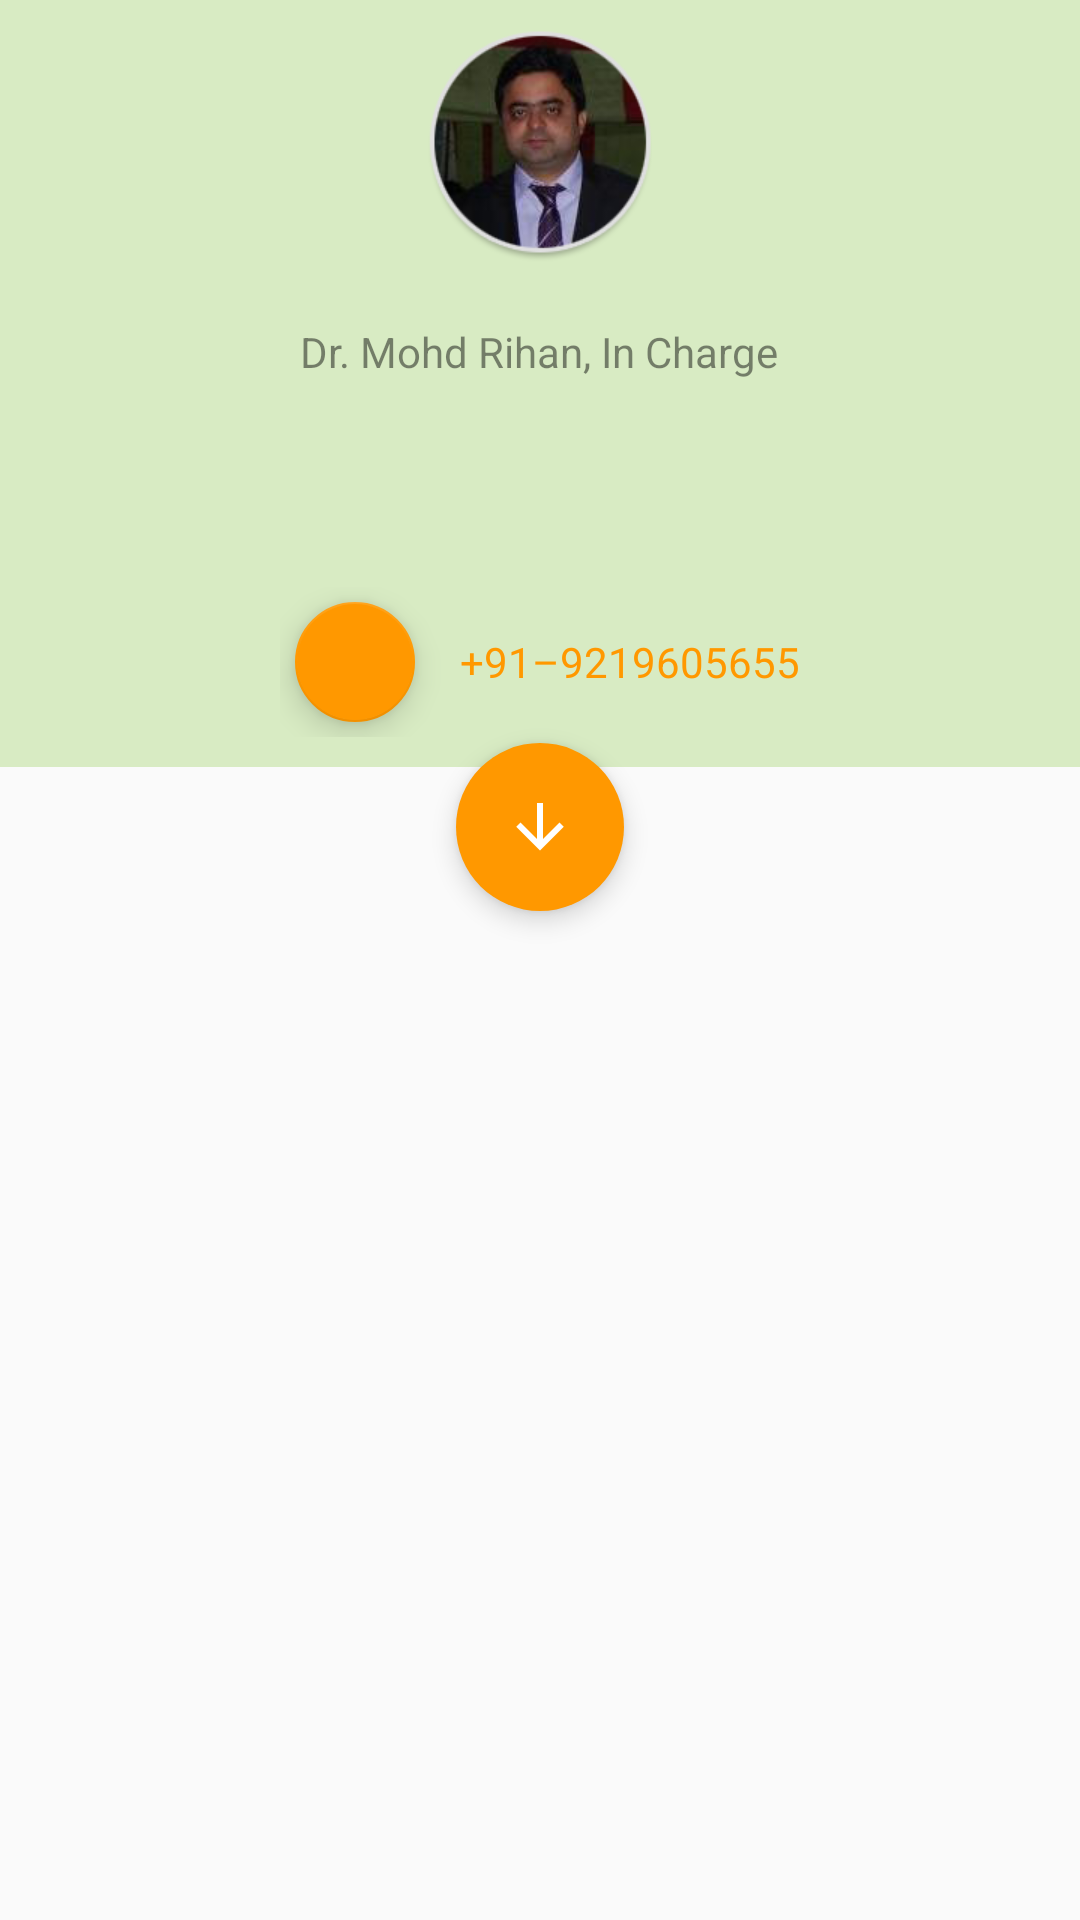

Locate icon controls on the screen. Image size 1080x1920, boxes as (x1=x1, y1=y1, x2=x2, y2=y2).
arrow down: (x1=456, y1=743, x2=624, y2=911)
